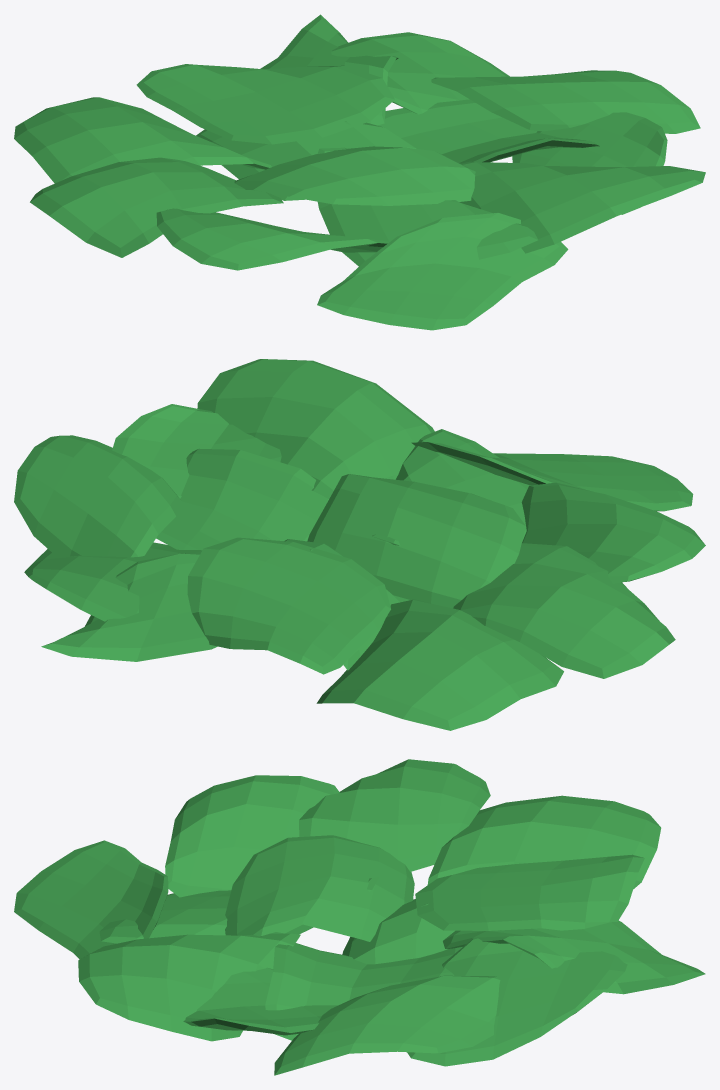
The model's file is Plate_Lettuce.fbx.
The picture shows the model from 3 angles, top to bottom: view 1: azimuth 30°, elevation 25°; view 2: azimuth 150°, elevation 25°; view 3: azimuth 270°, elevation 25°; orthographic projection. The views are drawn at different scales.
Visible parts, largest first — view 1: Plate.Lettuce; view 2: Plate.Lettuce; view 3: Plate.Lettuce.
Boxes of the visible parts, bbox=[...] form: Plate.Lettuce: bbox=[14, 14, 705, 330]; Plate.Lettuce: bbox=[14, 359, 705, 730]; Plate.Lettuce: bbox=[14, 759, 705, 1075].
Bounding box in the file's own units: 58.29 × 6.06 × 55.51.
